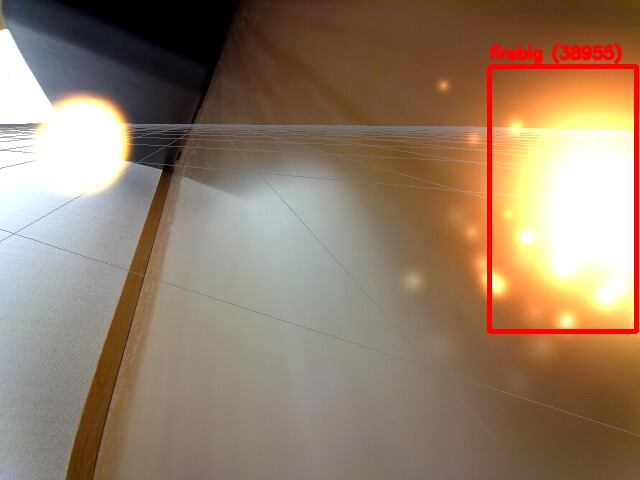firebig: (489, 66, 636, 331)
